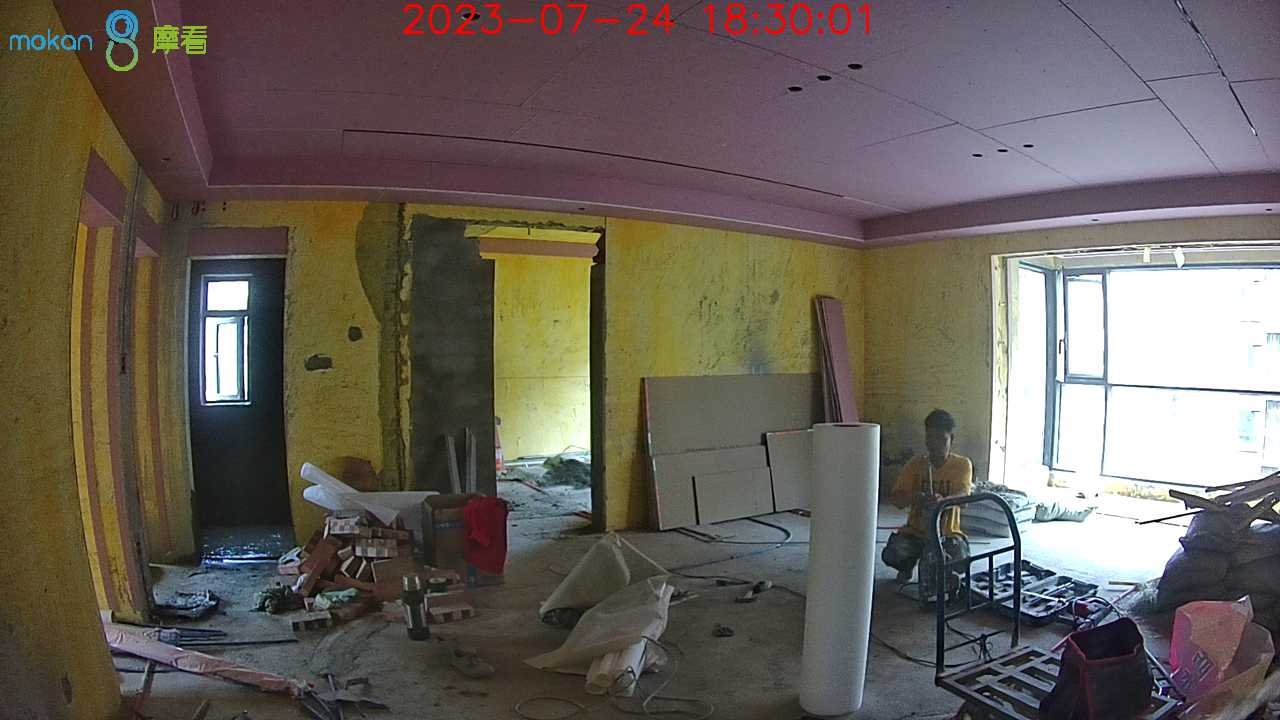people: (886, 410, 974, 619)
window: (1018, 262, 1280, 483), (202, 275, 249, 400)
